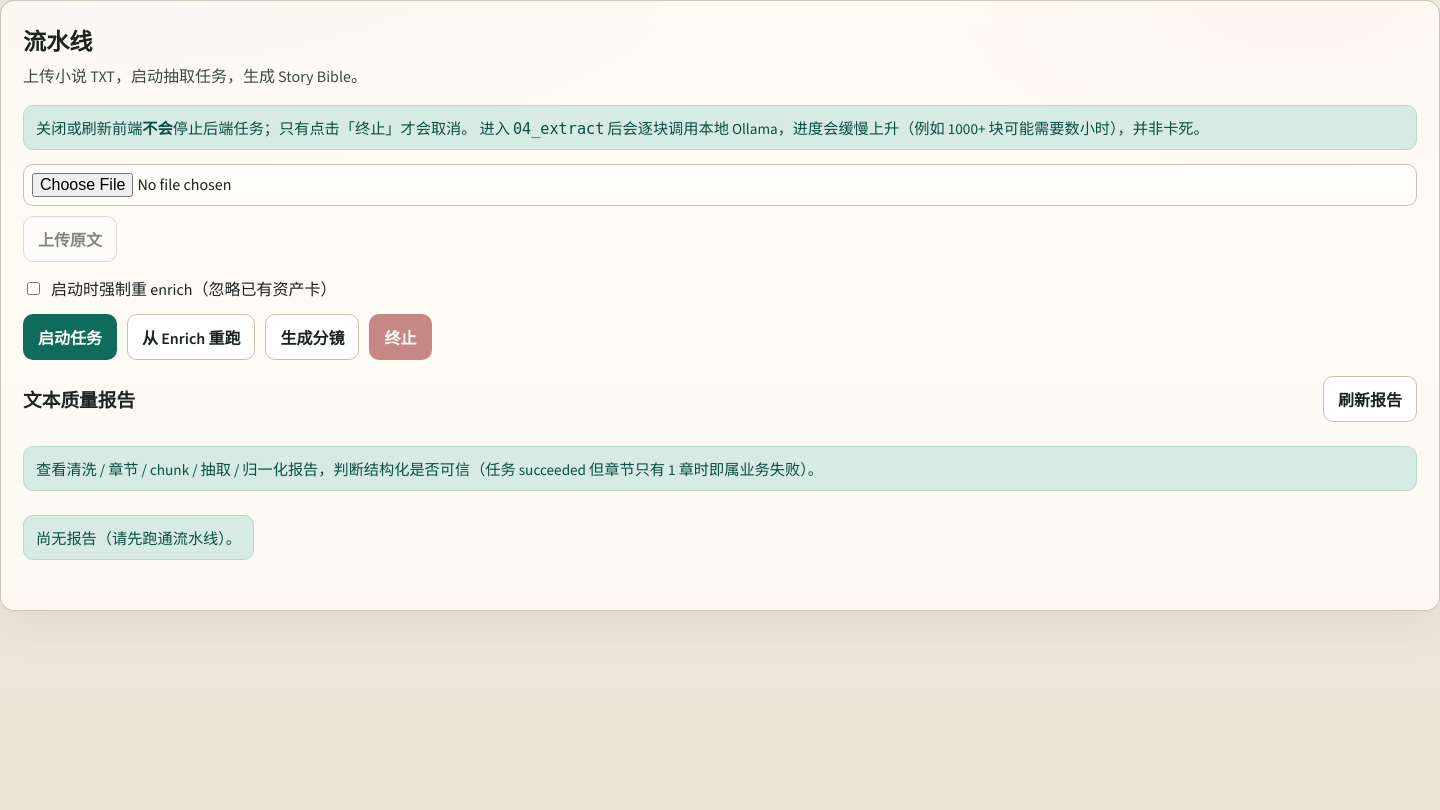
Test: PipelinePage › stops polling when getJob returns step_failed
Click the button "启动任务".
click(70, 337)  # box [23,314,117,360]
Wait 4000 ms
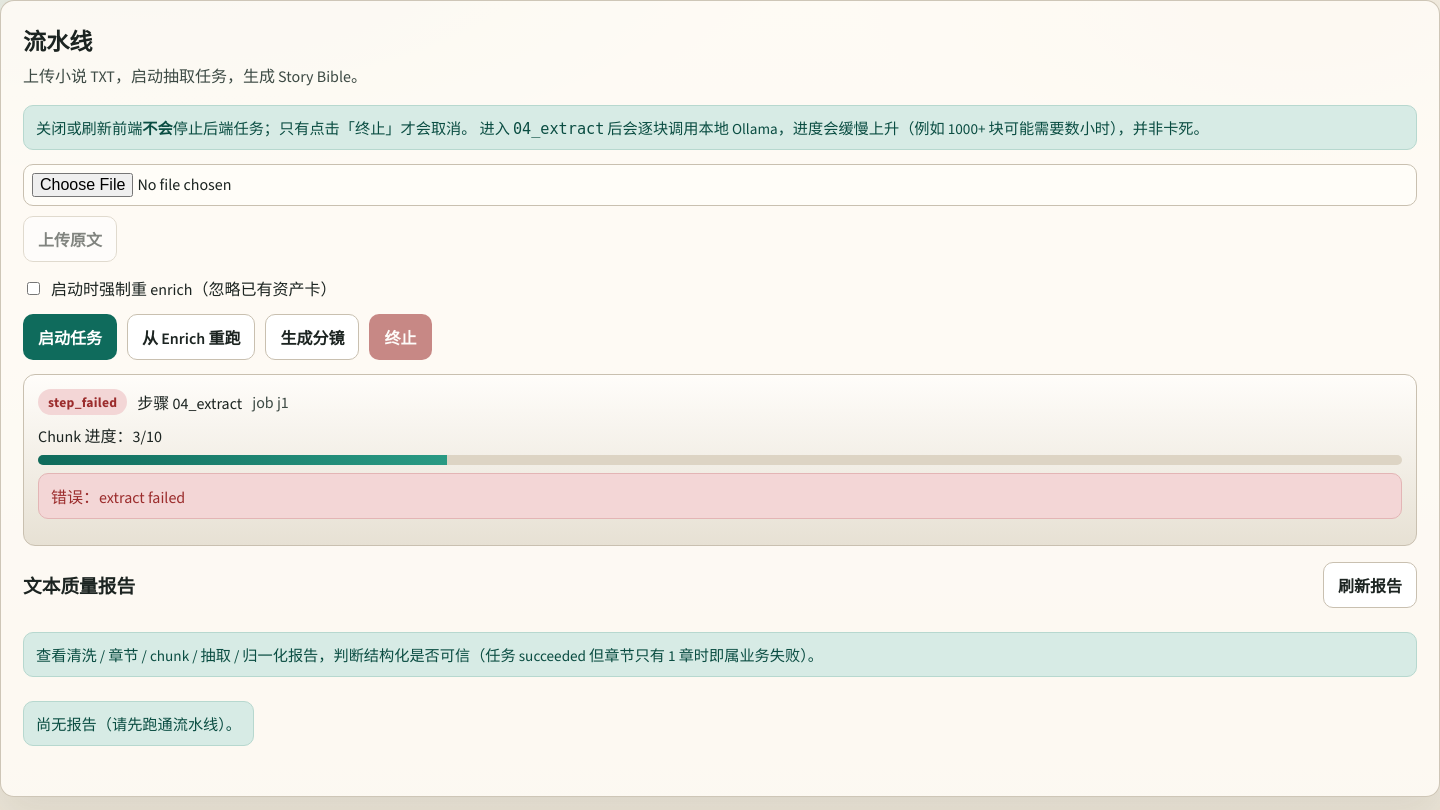
Expected: the text "step_failed" is shown, [38,389,127,415]
